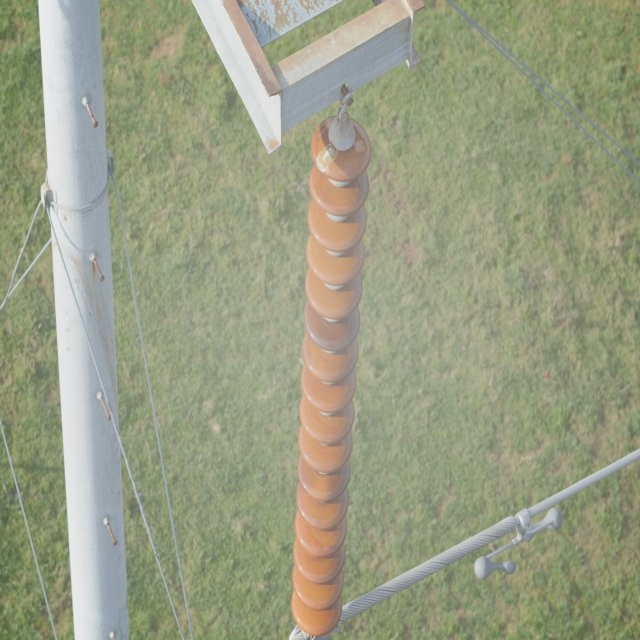insulator: (287, 116, 371, 630)
